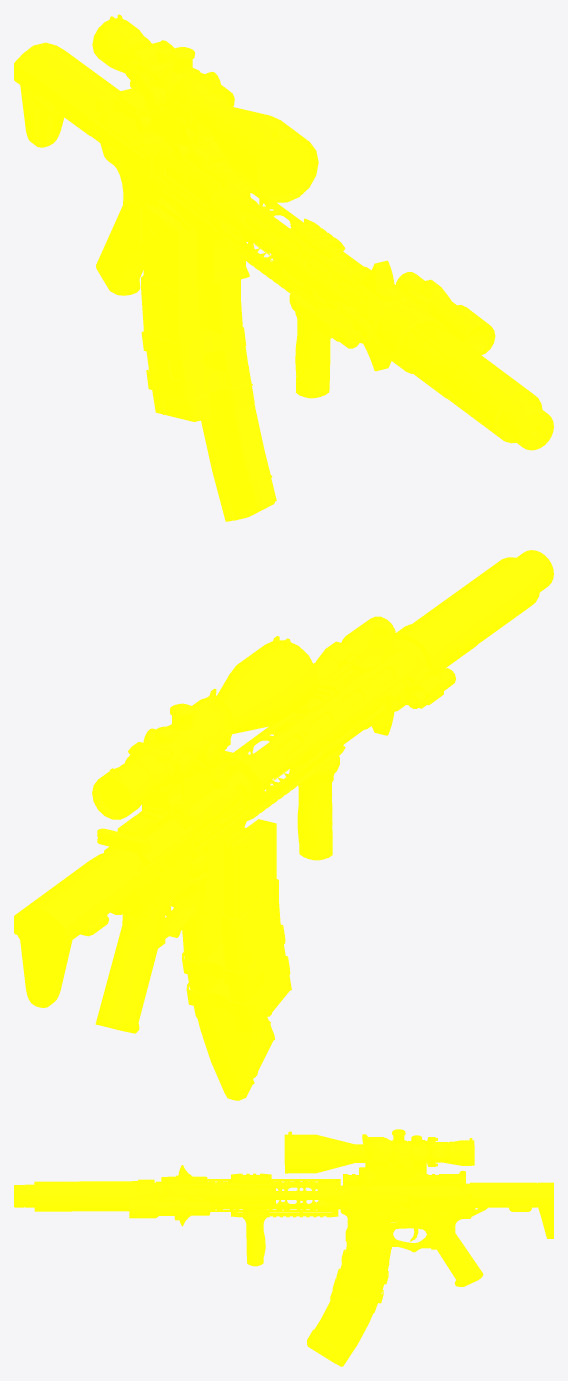
Rendered from assault-rifle.gltf.
3 views of the same model, one above another, from view 1: azimuth 30°, elevation 25°; view 2: azimuth 150°, elevation 25°; view 3: azimuth 270°, elevation 25° (orthographic). The views are drawn at different scales.
Visible parts, largest first — view 1: double_magazine, scope, metal, receiver, barrel, stock, extended_magazine, silencer01, acog, handle, silencer03, flash_light (+7 smaller); view 2: double_magazine, scope, receiver, metal, stock, barrel, handle, silencer01, acog, extended_magazine, silencer03, flash_light (+6 smaller); view 3: receiver, scope, barrel, metal, silencer01, extended_magazine, double_magazine, stock, acog, handle, flash_light, holographic_sight (+6 smaller).
Boxes of the visible parts, <box> form: double_magazine: <box>141,200,249,421</box>; scope: <box>92,14,318,202</box>; metal: <box>31,88,431,371</box>; receiver: <box>98,91,250,285</box>; barrel: <box>210,181,418,355</box>; stock: <box>14,42,120,159</box>; extended_magazine: <box>201,357,276,521</box>; silencer01: <box>409,321,542,443</box>; acog: <box>118,34,234,170</box>; handle: <box>96,193,143,295</box>; silencer03: <box>381,307,450,398</box>; flash_light: <box>396,272,495,354</box>; double_magazine: <box>182,819,291,1033</box>; scope: <box>92,636,317,819</box>; receiver: <box>104,750,251,938</box>; metal: <box>89,625,431,935</box>; stock: <box>14,851,139,1007</box>; barrel: <box>233,643,422,812</box>; handle: <box>95,906,165,1033</box>; silencer01: <box>412,557,540,643</box>; acog: <box>120,688,233,803</box>; extended_magazine: <box>182,913,274,1100</box>; silencer03: <box>391,604,482,675</box>; flash_light: <box>313,616,395,683</box>; receiver: <box>340,1174,469,1252</box>; scope: <box>284,1129,474,1183</box>; barrel: <box>164,1179,340,1211</box>; metal: <box>154,1165,537,1226</box>; silencer01: <box>34,1181,137,1211</box>; extended_magazine: <box>307,1222,391,1366</box>; double_magazine: <box>332,1242,389,1313</box>; stock: <box>469,1182,553,1238</box>; acog: <box>359,1134,452,1185</box>; handle: <box>431,1226,483,1286</box>; flash_light: <box>129,1194,211,1220</box>; holographic_sight: <box>374,1154,414,1183</box>.
Bounding box in the file's own units: 0.2229 × 0.7528 × 1.57.
14 materials, 14 textured.
